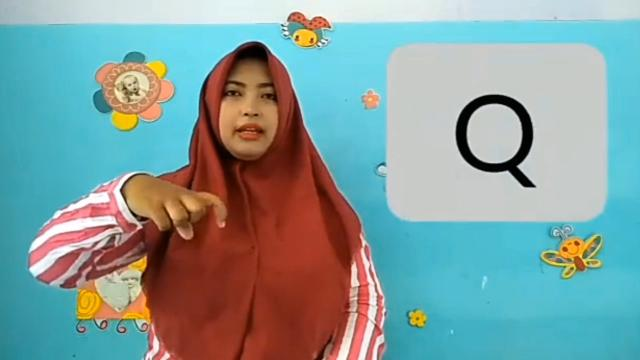Q: (124, 171, 234, 245)
